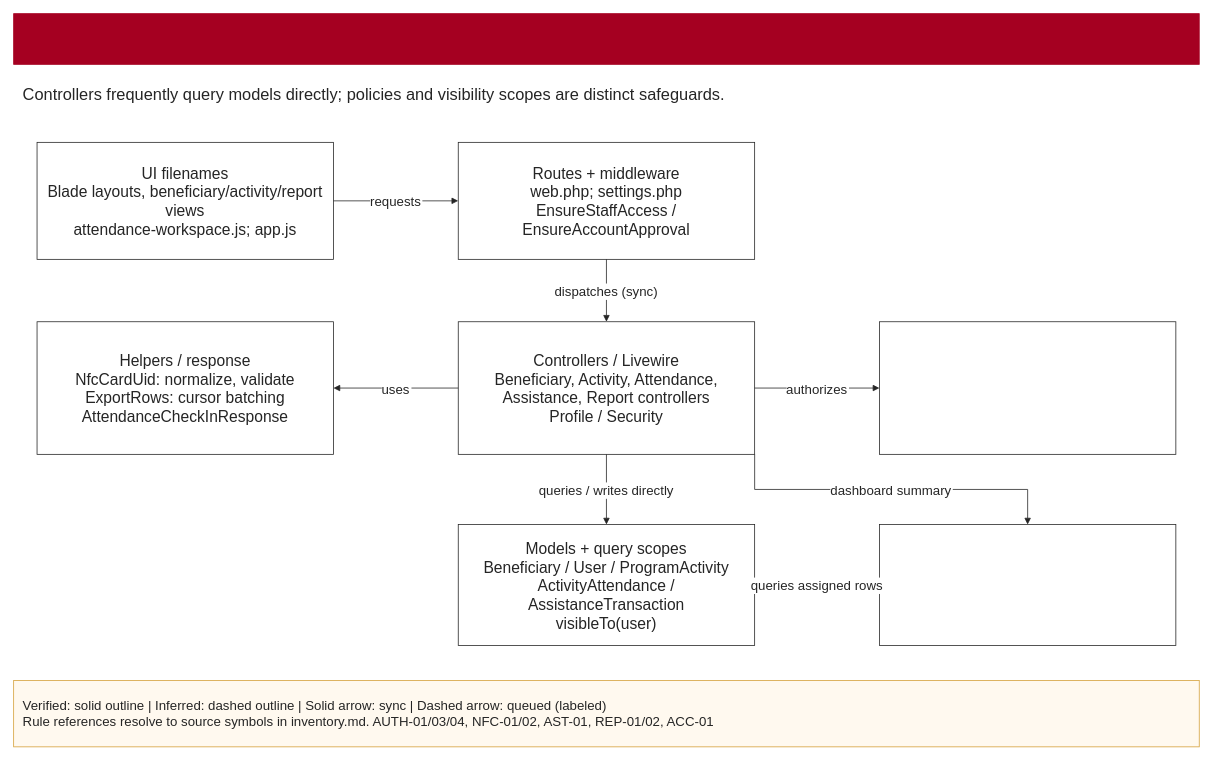
Some shapes in this 1213 by 761 pixel diagram are drawn without their labels. Each missing label, with the centre of its shape:
01A | Request and domain packages: [606,38]
Policies BeneficiaryPolicy ProgramActivityPolicy / UserPolicy: [1027,387]
Service CaseworkerCaseload::summary called by DashboardController: [1027,584]
